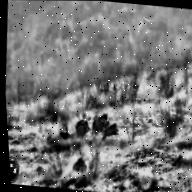boar: (97, 121, 121, 143), (76, 117, 92, 135), (75, 124, 91, 140)
